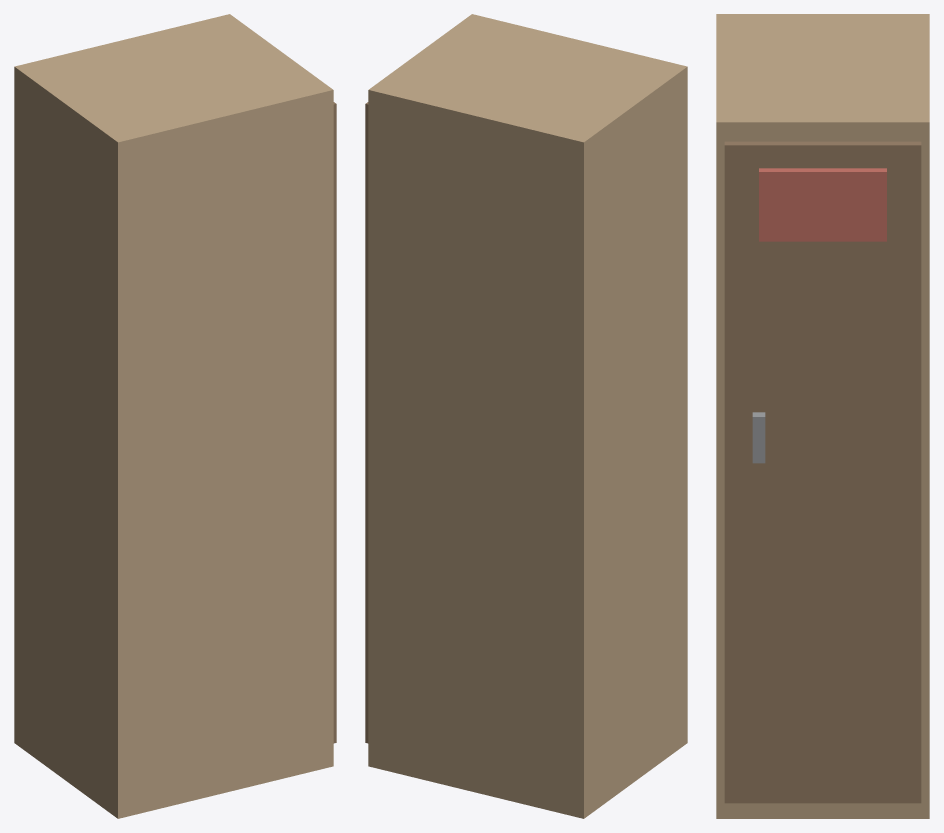
Rendered from deploy_claim.glb.
3 views of the same model, side by side, from view 1: azimuth 30°, elevation 25°; view 2: azimuth 150°, elevation 25°; view 3: azimuth 270°, elevation 25° (orthographic). The views are drawn at different scales.
Visible parts, largest first — view 1: deploy_claim; view 2: deploy_claim; view 3: deploy_claim.
Part boxes in pixels (box(x1,y1,x2,y2)): deploy_claim: box(14, 14, 336, 818); deploy_claim: box(365, 14, 687, 818); deploy_claim: box(716, 14, 929, 818).
Bounding box in the file's own units: 0.645 × 1.8 × 0.5.
